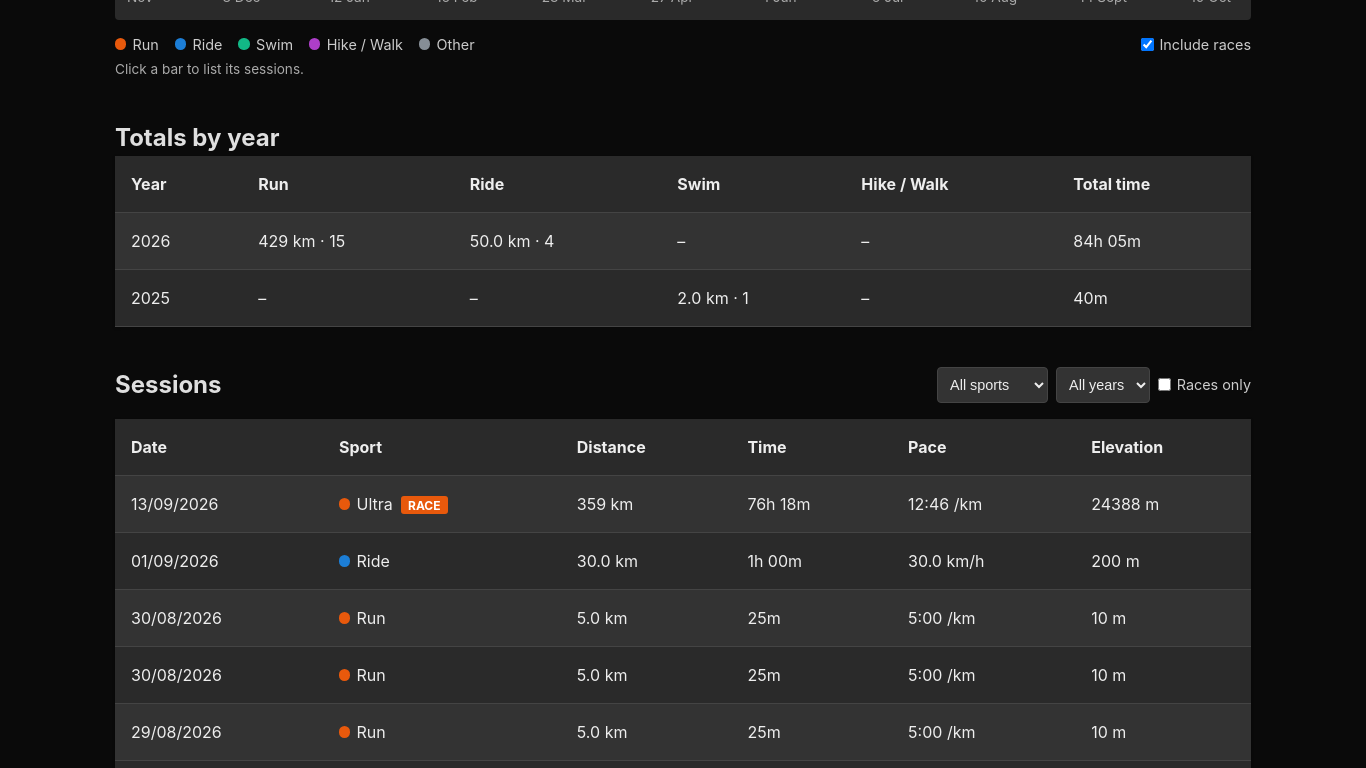
Test: Training page › sends the sport, year and race filters to the server
(page scrolled)
Select "Ride" in the dropdown named "Sport": (993, 385) x1=937 y1=367 x2=1048 y2=403
(page scrolled)
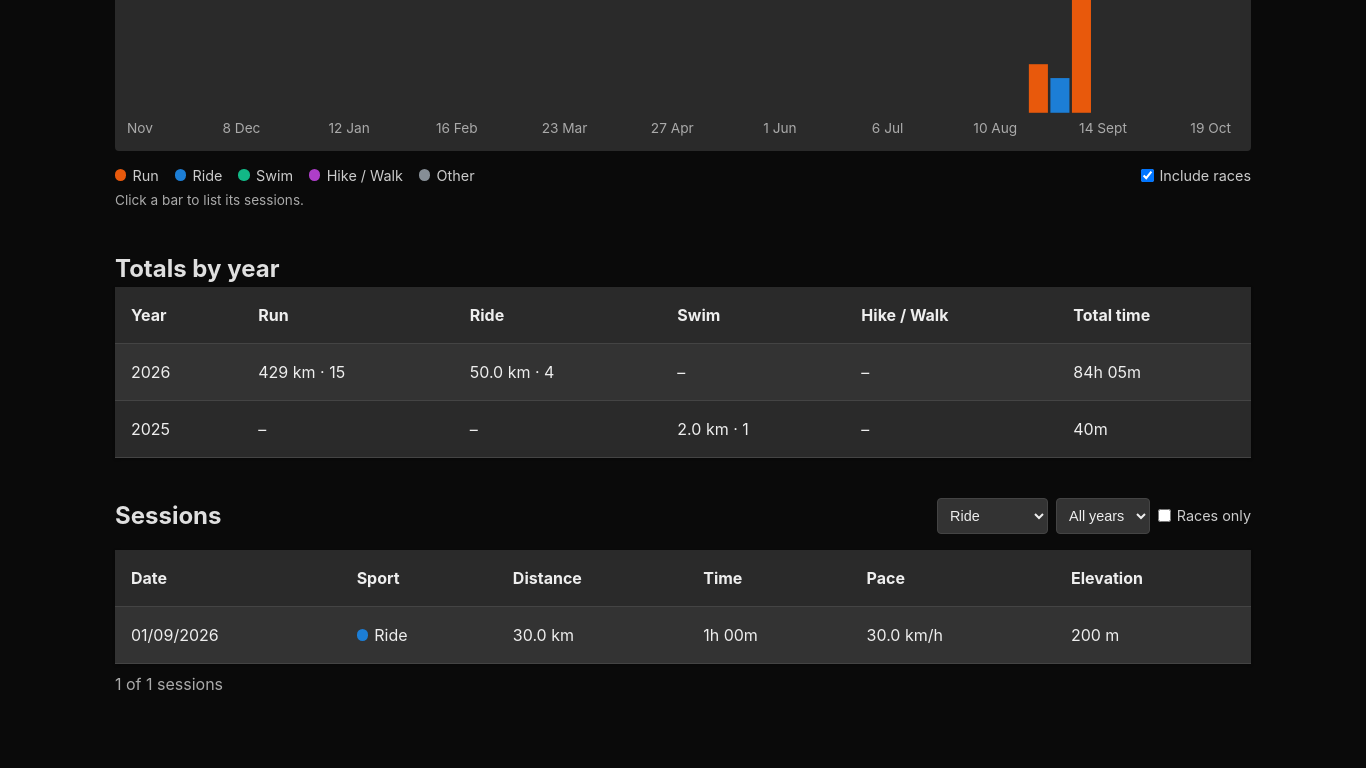
Expected: the text "1 of 1 sessions" is shown, x1=115 y1=674 x2=223 y2=694
Select "All sports" in the dropdown named "Sport": (993, 516) x1=937 y1=498 x2=1048 y2=534
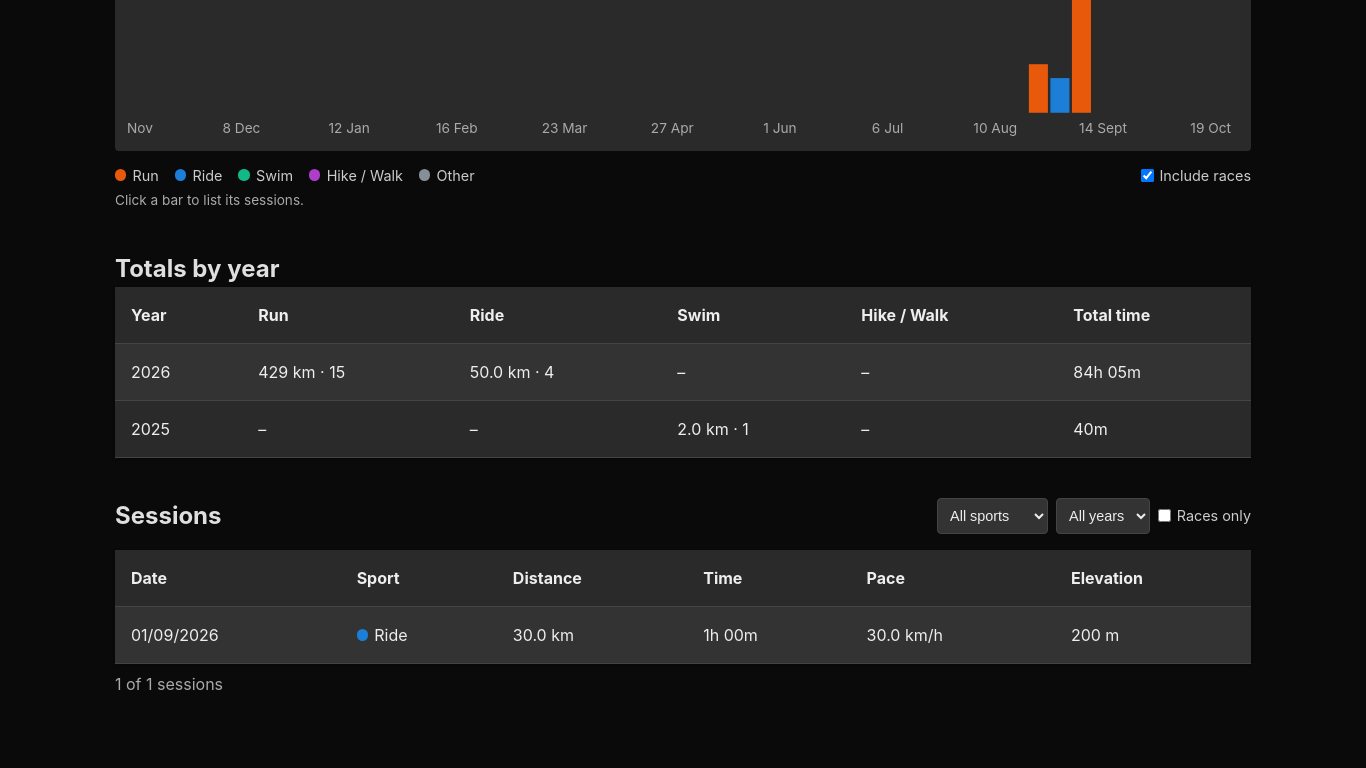
Select "2025" in the dropdown named "Year": (1103, 516) x1=1056 y1=498 x2=1150 y2=534
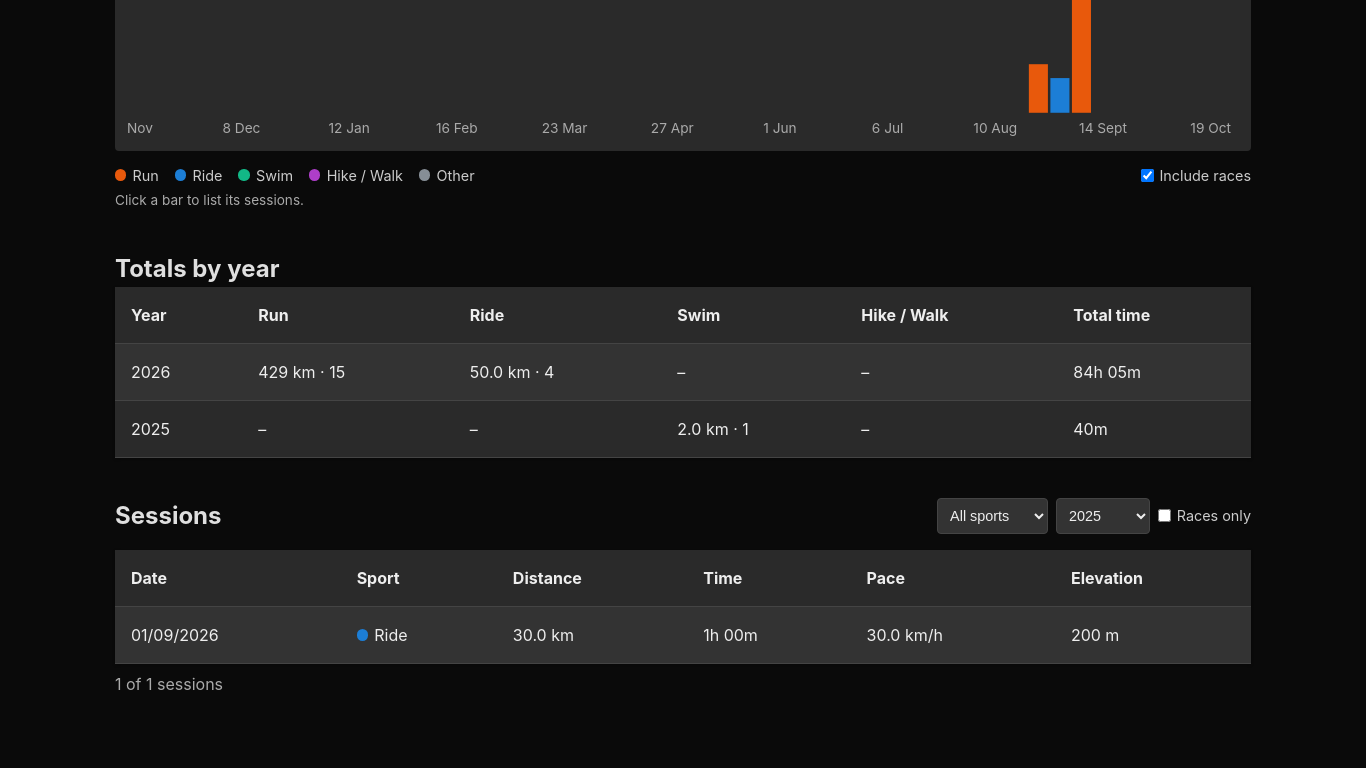
Expected: the text "1 of 1 sessions" is shown, x1=115 y1=674 x2=223 y2=694
Select "All years" in the dropdown named "Year": (1103, 516) x1=1056 y1=498 x2=1150 y2=534
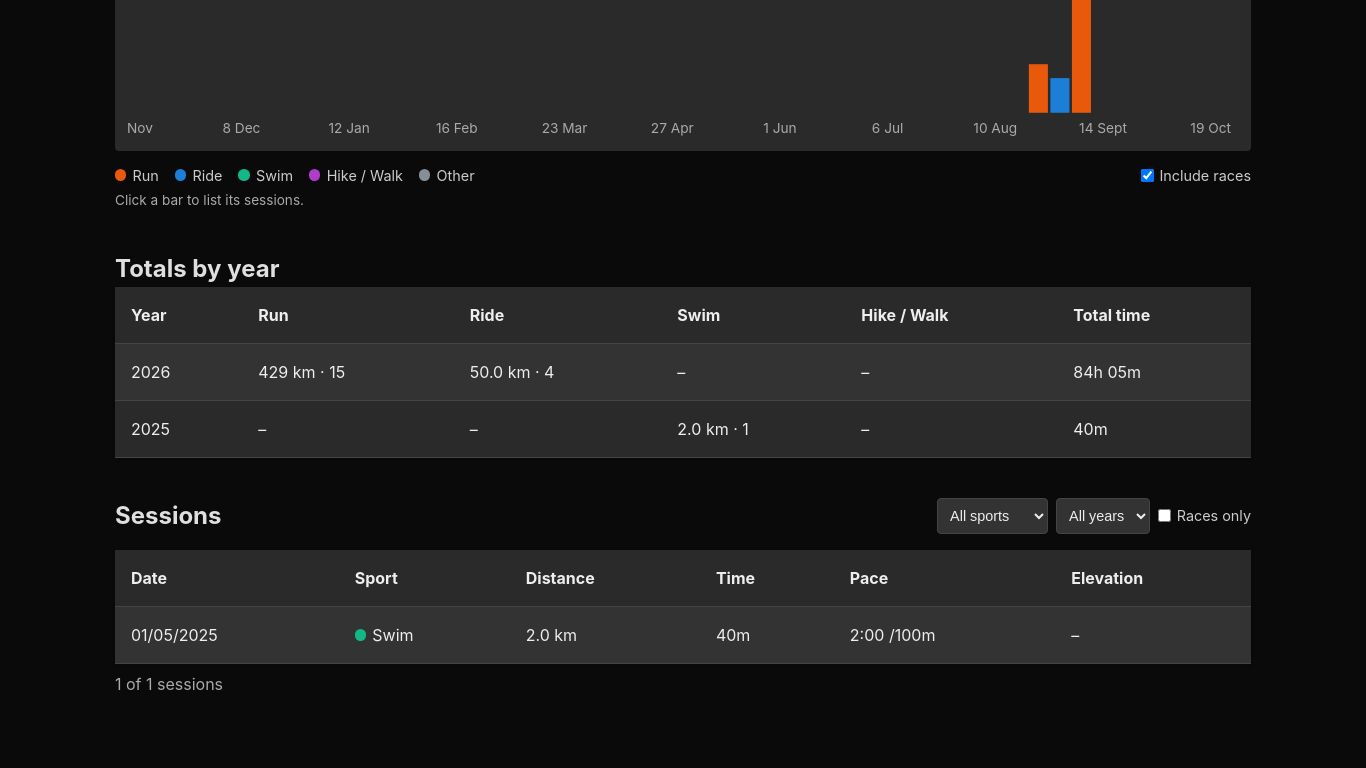
Click the checkbox labelled "Races only": (1165, 516) x1=1158 y1=509 x2=1171 y2=522
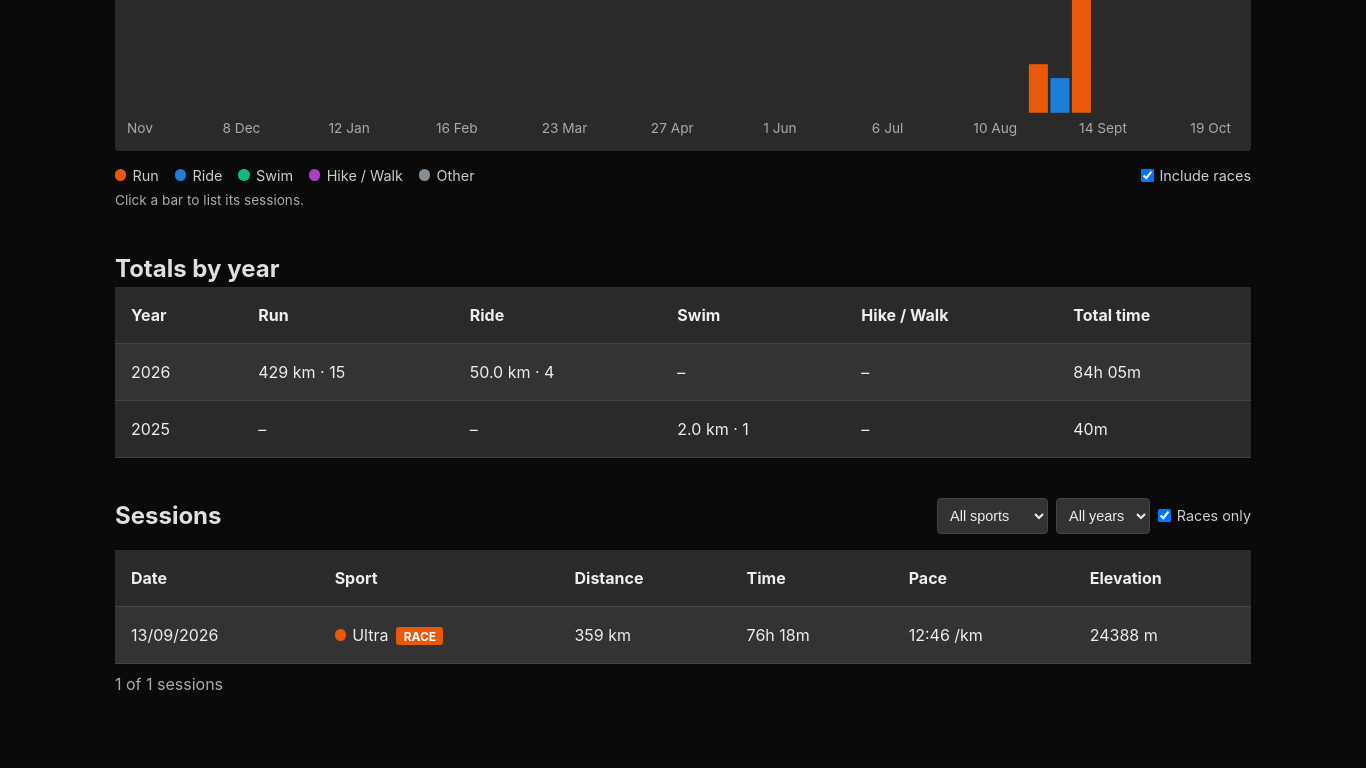
Expected: the text "1 of 1 sessions" is shown, x1=115 y1=674 x2=223 y2=694
Expected: the text "Ultra" is shown, x1=352 y1=625 x2=388 y2=645
